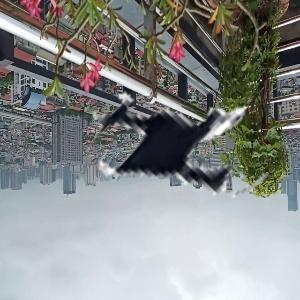drone: (61, 27, 283, 249)
